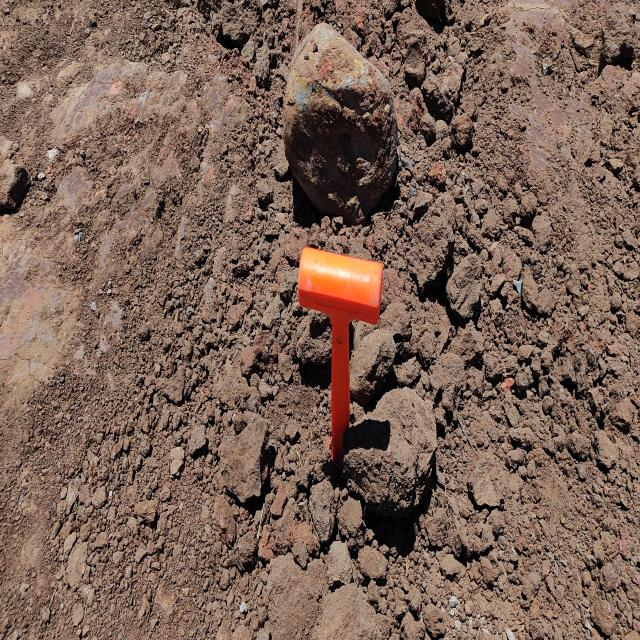Orange_hammer: (297, 245, 383, 465)
